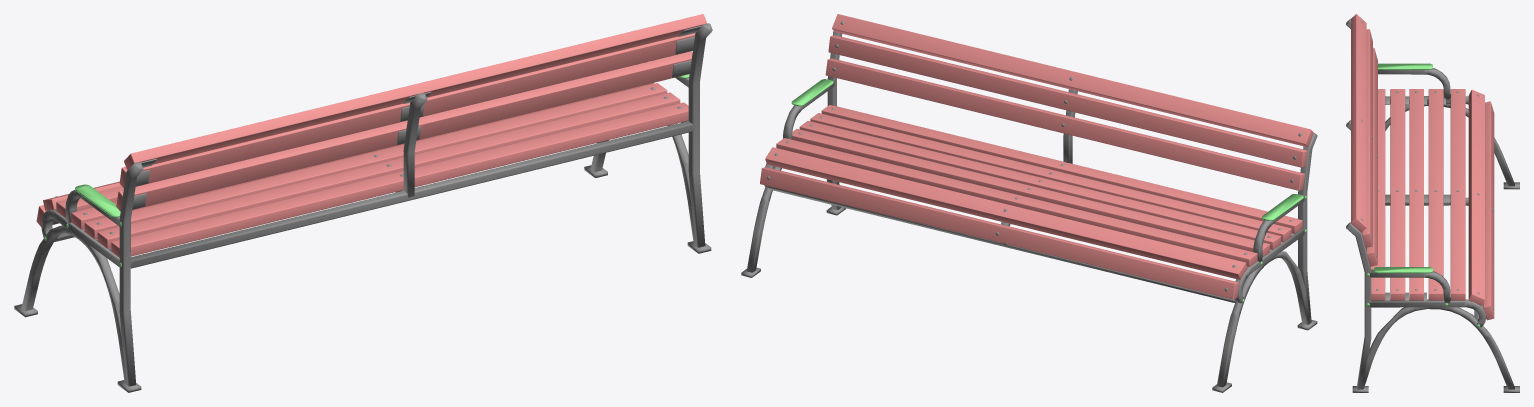
Rendered from bench.fbx.
The picture shows the model from 3 angles, left to right: view 1: azimuth 30°, elevation 25°; view 2: azimuth 150°, elevation 25°; view 3: azimuth 270°, elevation 25°; orthographic projection. The views are drawn at different scales.
Parts seen in each view (by area): view 1: bench; view 2: bench; view 3: bench.
Part boxes in pixels (bbox=[...]): bench: bbox=[14, 14, 712, 392]; bench: bbox=[741, 14, 1317, 392]; bench: bbox=[1346, 14, 1519, 392].
Size of the model in its own units: 1832 by 709 by 646.
